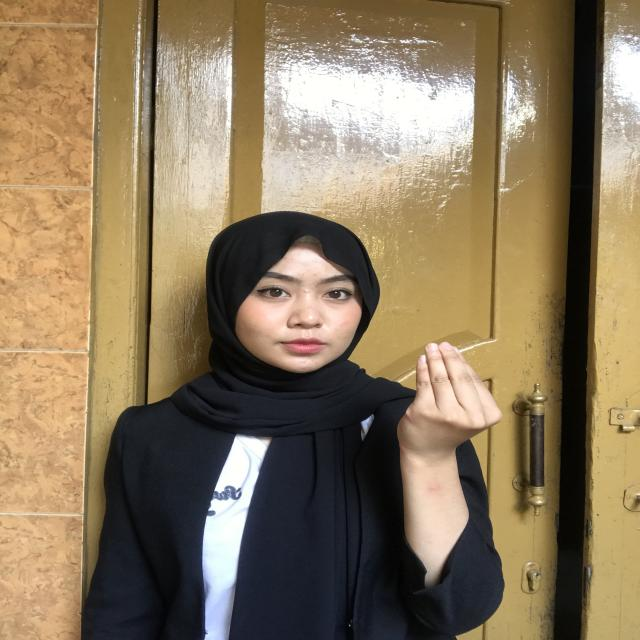kapan: (383, 336, 516, 479)
